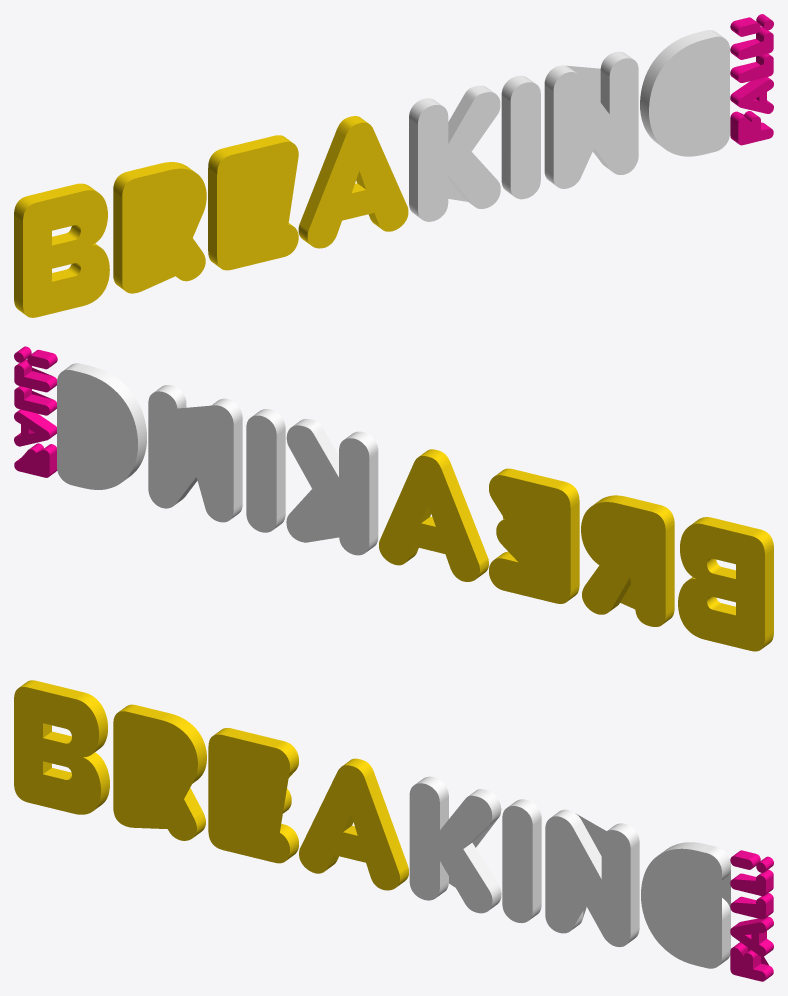
File: Title.fbx
3 renders of one model, top to bottom at view 1: azimuth 30°, elevation 25°; view 2: azimuth 150°, elevation 25°; view 3: azimuth 330°, elevation 25°, orthographic.
Parts seen in each view (by area): view 1: B_1, F_1; view 2: B_1, F_1; view 3: B_1, F_1.
Part boxes in pixels (<box>): B_1: <box>14,30,729,317</box>; F_1: <box>730,14,773,145</box>; B_1: <box>57,363,773,651</box>; F_1: <box>14,346,57,477</box>; B_1: <box>14,680,730,968</box>; F_1: <box>730,850,773,981</box>.
Bounding box in the file's own units: 963 × 146 × 20.
